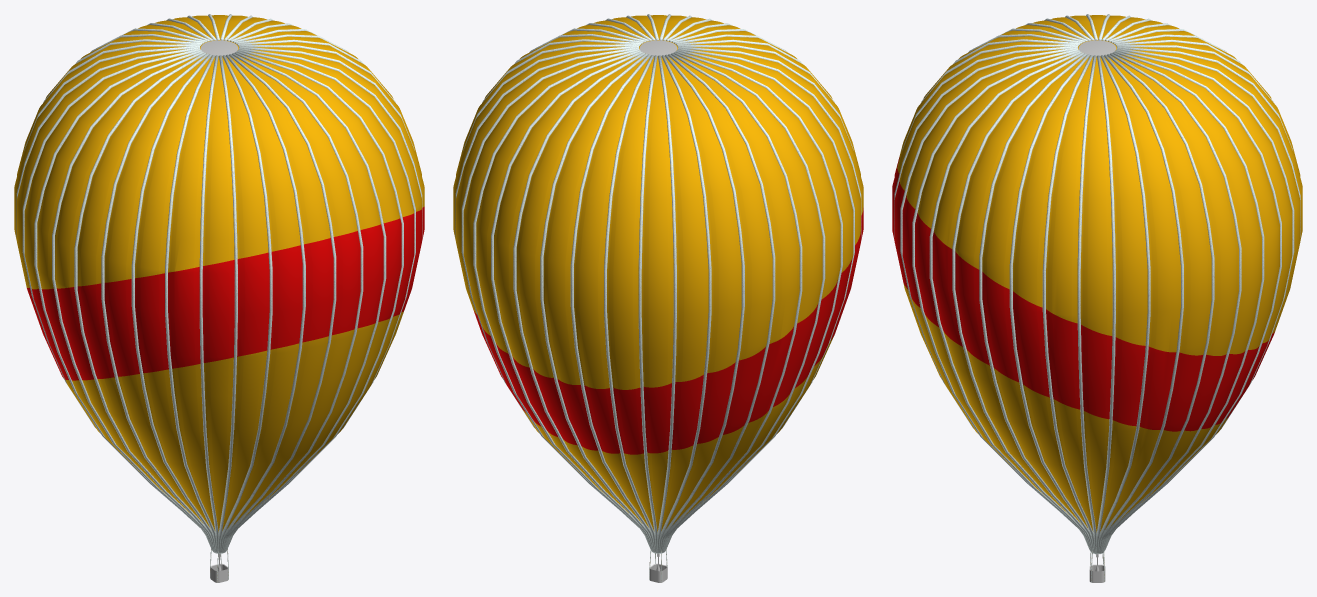
3 views of the same model, side by side, from view 1: azimuth 30°, elevation 25°; view 2: azimuth 150°, elevation 25°; view 3: azimuth 270°, elevation 25° (orthographic).
Parts seen in each view (by area): view 1: Component_1 (×3), Component_2 (×20); view 2: Component_1 (×3), Component_2 (×20); view 3: Component_1 (×3), Component_2 (×20).
Part boxes in pixels (x1,y1,x2,y2): Component_1 (×3): [14, 15, 424, 531]; Component_2 (×20): [16, 45, 422, 553]; Component_1 (×3): [453, 15, 863, 531]; Component_2 (×20): [455, 45, 861, 553]; Component_1 (×3): [892, 15, 1302, 532]; Component_2 (×20): [894, 45, 1300, 554].
Bounding box in the file's own units: 17683 × 17683 × 25315.
